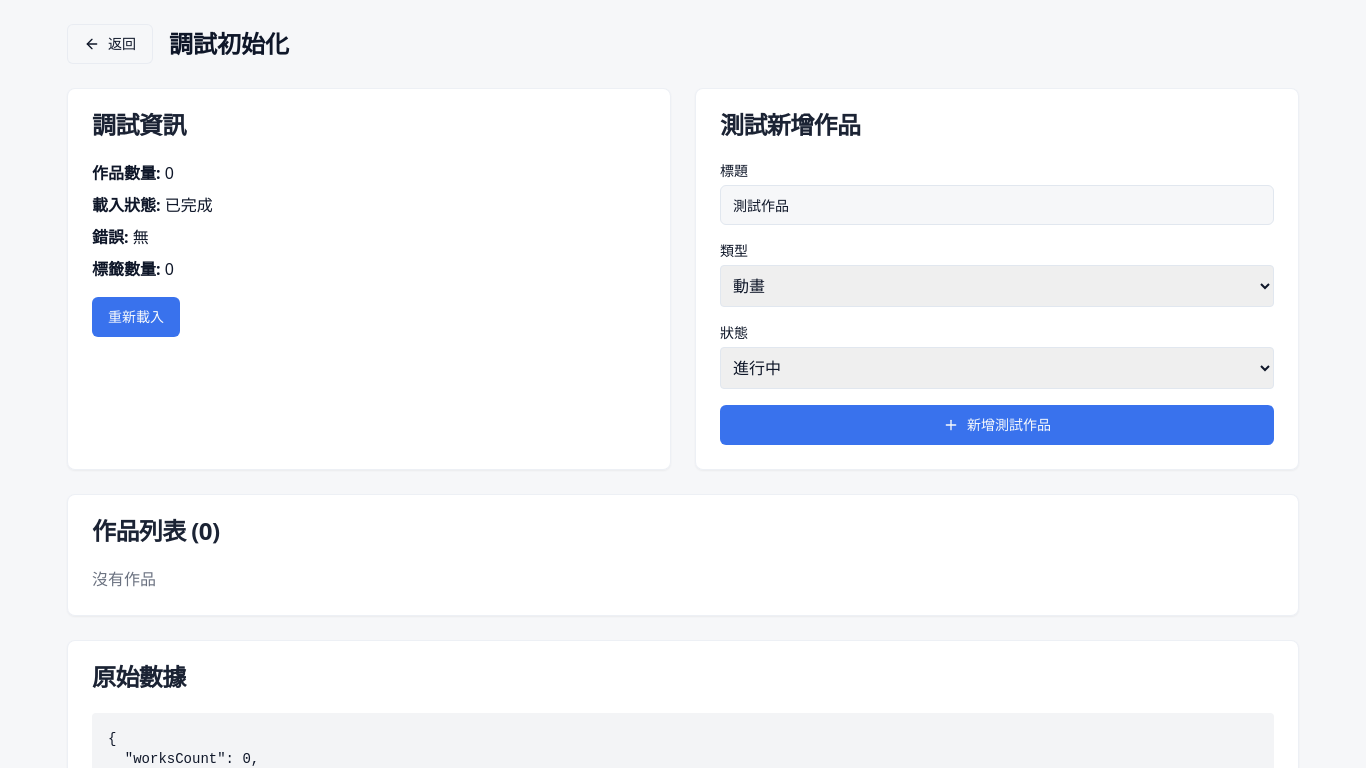
it: DebugInitPage › shows create test work results inline instead of using browser alerts
The image size is (1366, 768).
Click the button "新增測試作品": (997, 425) [720, 405, 1274, 445]
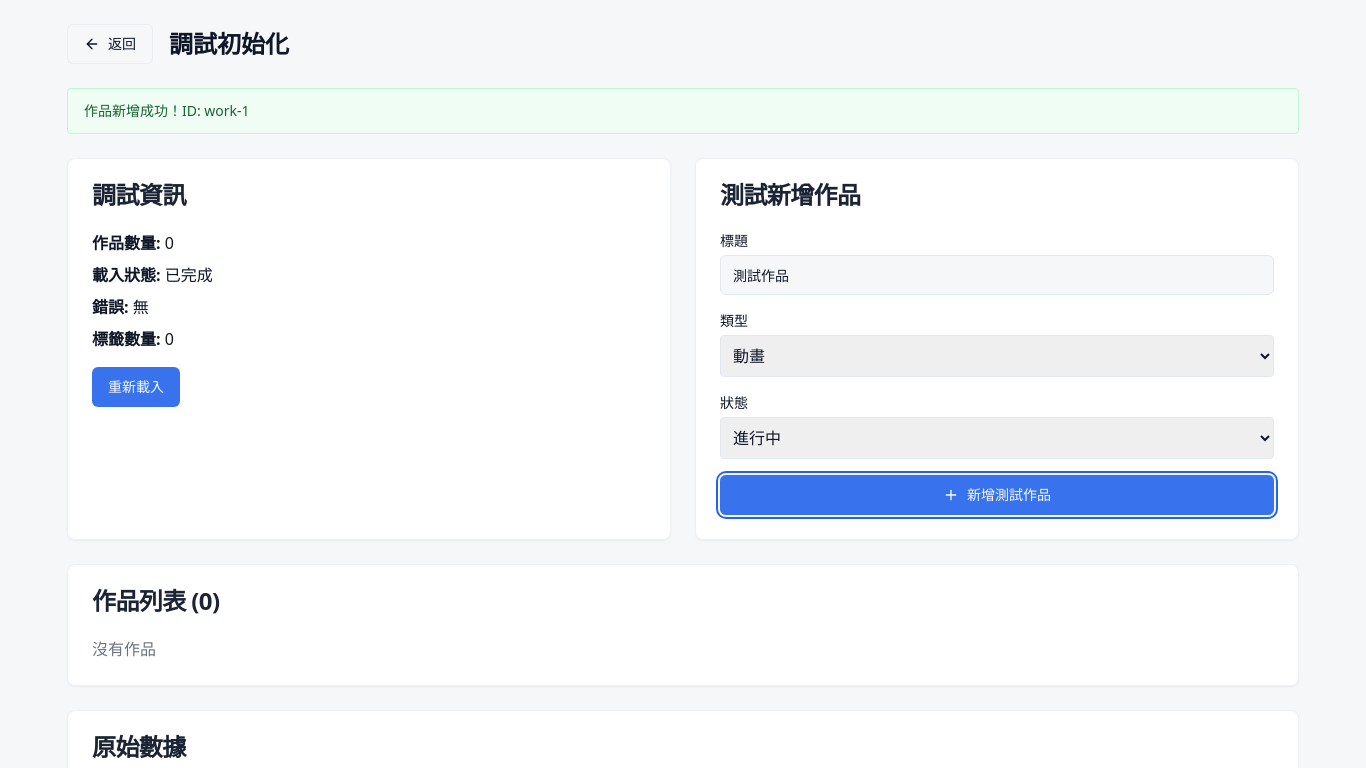
Expected: the message named "新增測試作品結果" reads "作品新增成功！ID: work-1", [84, 101, 250, 120]
